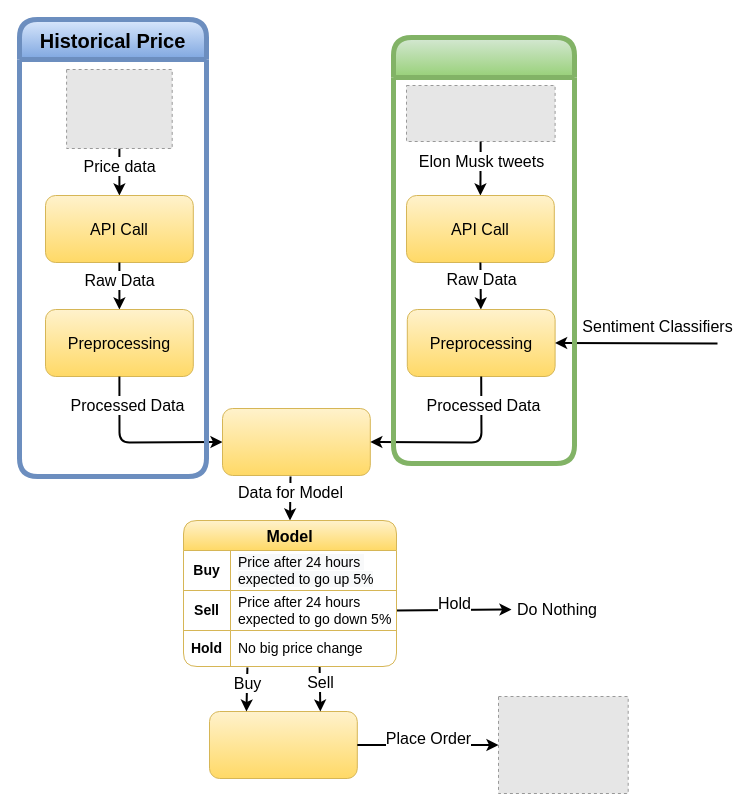
This 750x811 diagram has some shape labels left out. Grey dashed boxes stand in for pictures. Each missing label, with the centre of its shape:
"Merge and Feature Selection" belongs at (x=296, y=442).
"Sentiment" belongs at (x=483, y=250).
"Trading Bot" belongs at (x=282, y=744).
